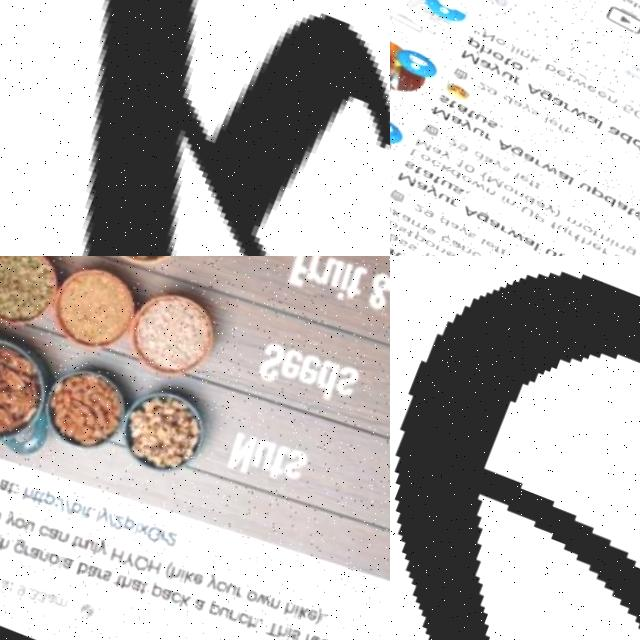0: (462, 163, 475, 174)
1: (454, 159, 464, 169), (419, 250, 429, 256)
2: (111, 513, 126, 532), (164, 529, 179, 548), (413, 203, 425, 214), (476, 81, 488, 92)
3: (34, 589, 48, 606), (28, 588, 38, 601)
5: (456, 142, 469, 153), (622, 104, 635, 115)
9: (15, 582, 29, 600), (423, 208, 436, 220), (485, 85, 498, 96)
E: (392, 266, 640, 640)
K: (0, 0, 390, 256)
